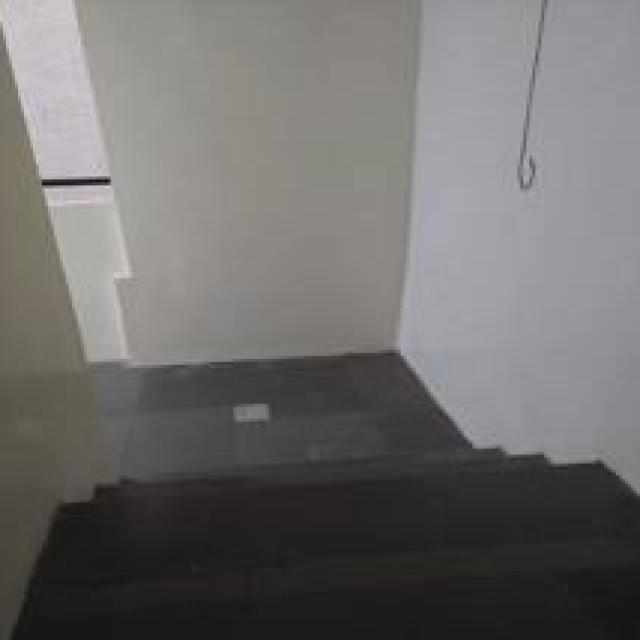downstair: (40, 423, 536, 545)
